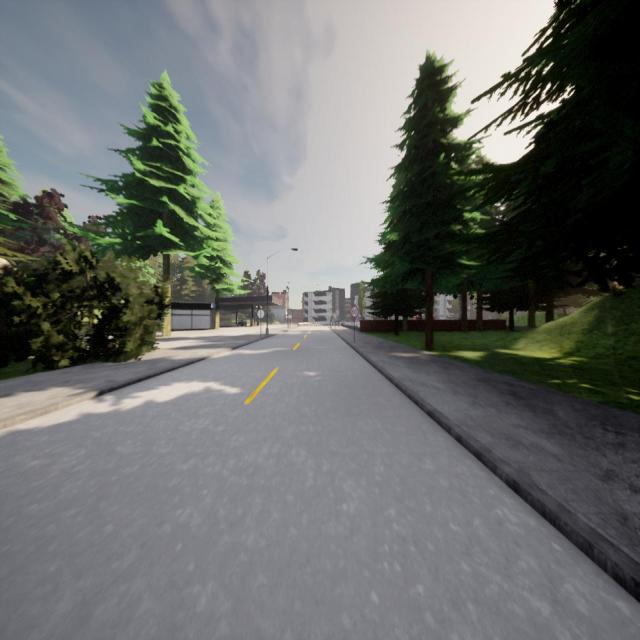Traffic_Signs: (351, 306, 359, 317), (257, 309, 265, 319), (287, 314, 292, 319), (333, 313, 337, 319)
Vehicle: (237, 320, 247, 327)
